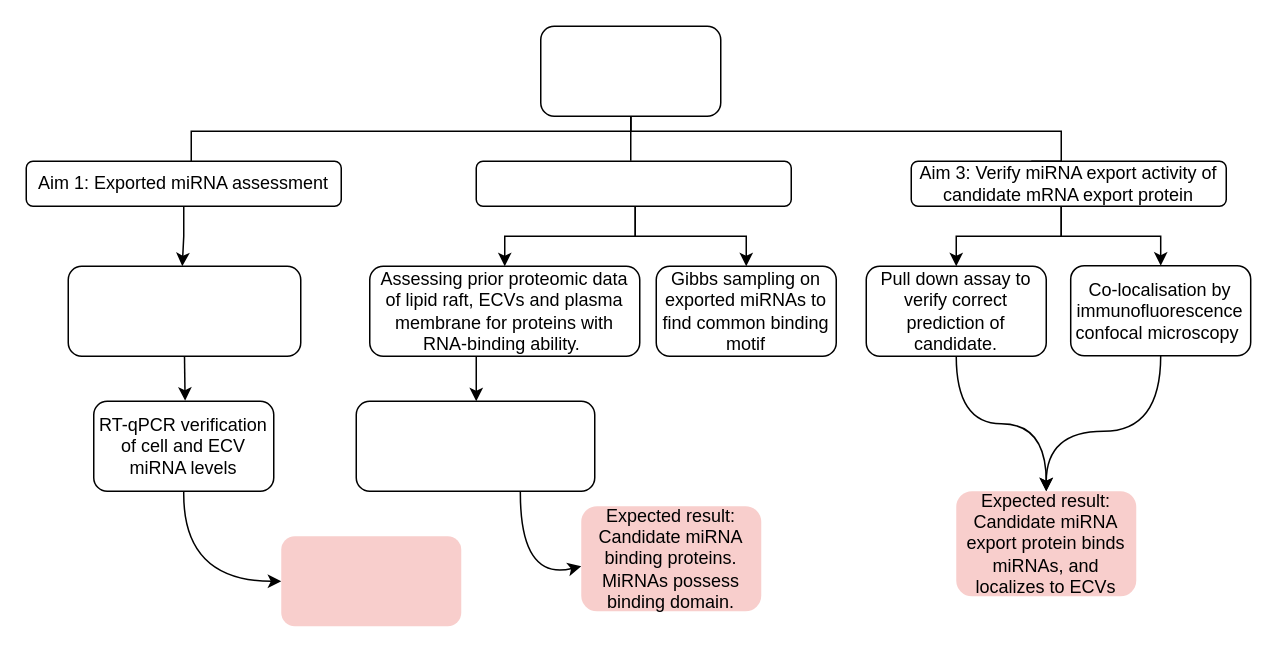
This 1278x653 diagram has some shape labels left out. The shapes that lost their labels are listed below. From the top down, each one's centre as x and y in pixels, then its label:
At (x=630, y=70): "Identifying miRNA export proteins.".
At (x=633, y=183): "Aim 2: Prediction of miRNA binding partners".
At (x=184, y=310): "DESeq and EdgeR bioinformatic analysis of miRNA-seq data".
At (x=475, y=445): "Compare known binding motif of candidate proteins to exported miRNAs".
At (x=370, y=581): "Expected result: List of differentially exported miRNAs".
